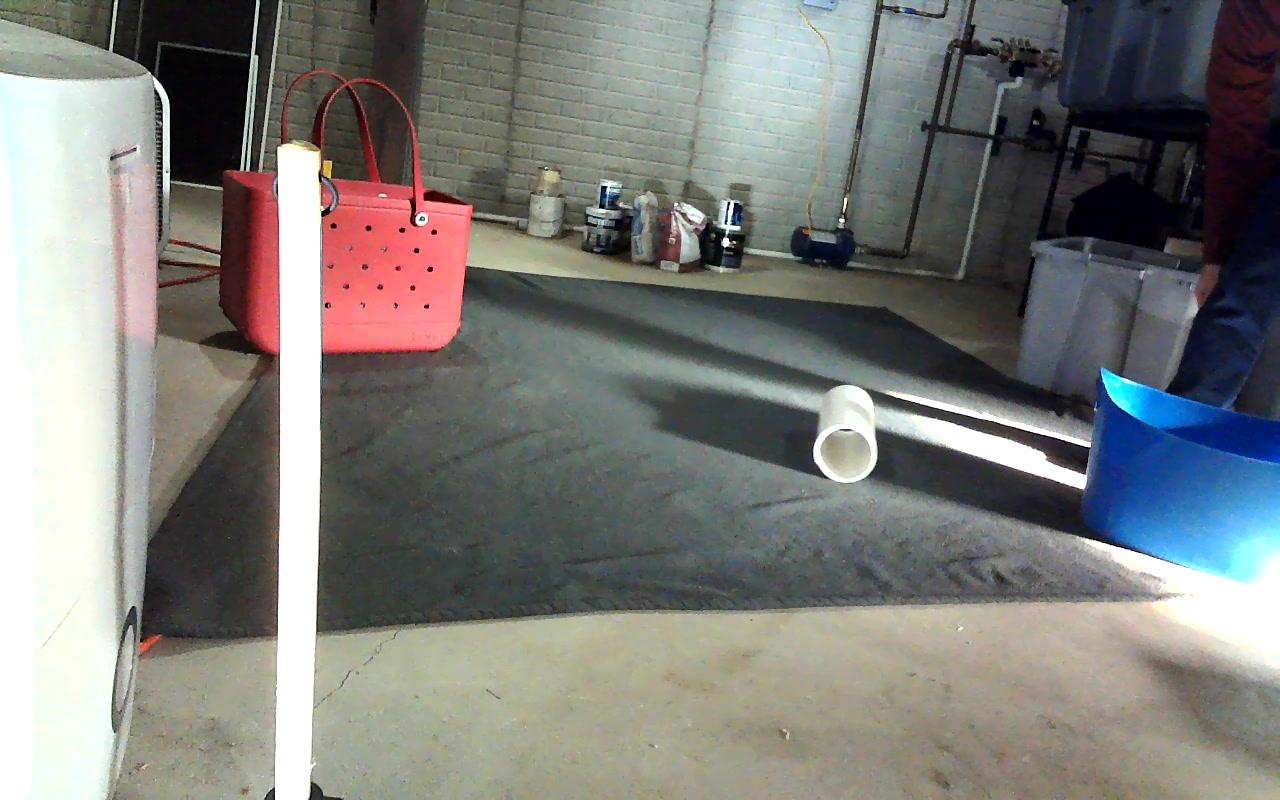coral: (813, 385, 879, 482)
